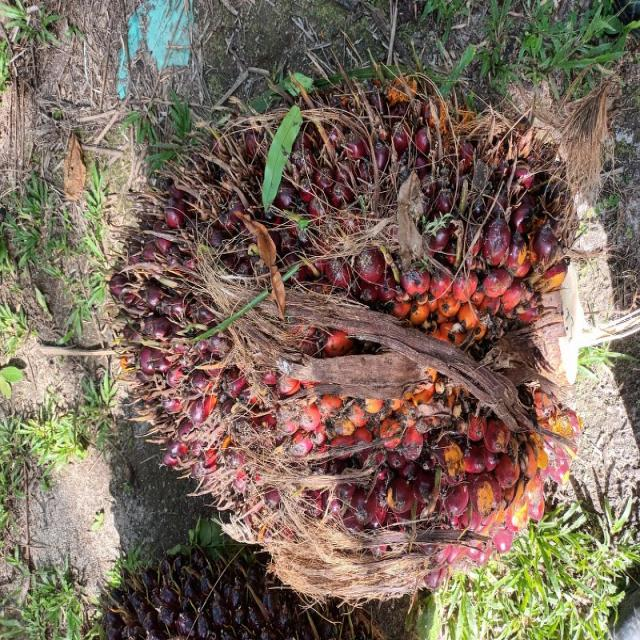fraksi 1: (46, 123, 467, 640)
